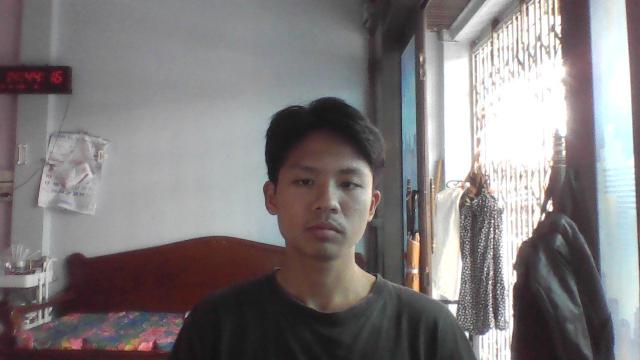fokus: (264, 136, 384, 268)
